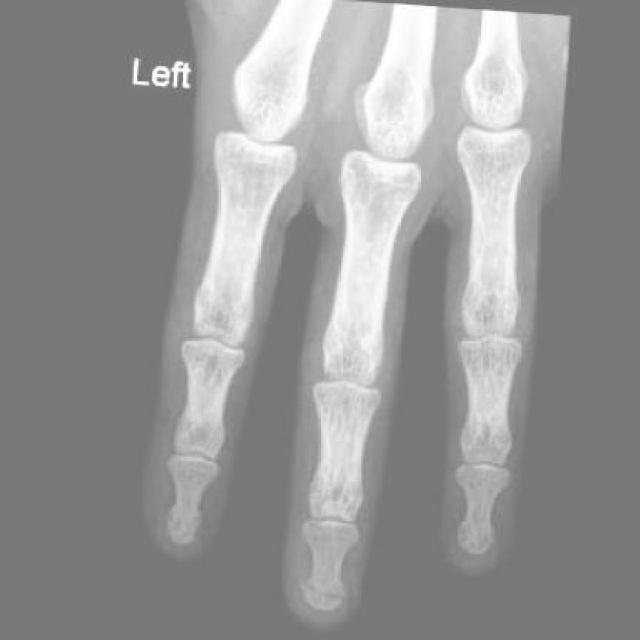Fracture: (301, 577, 354, 617)
